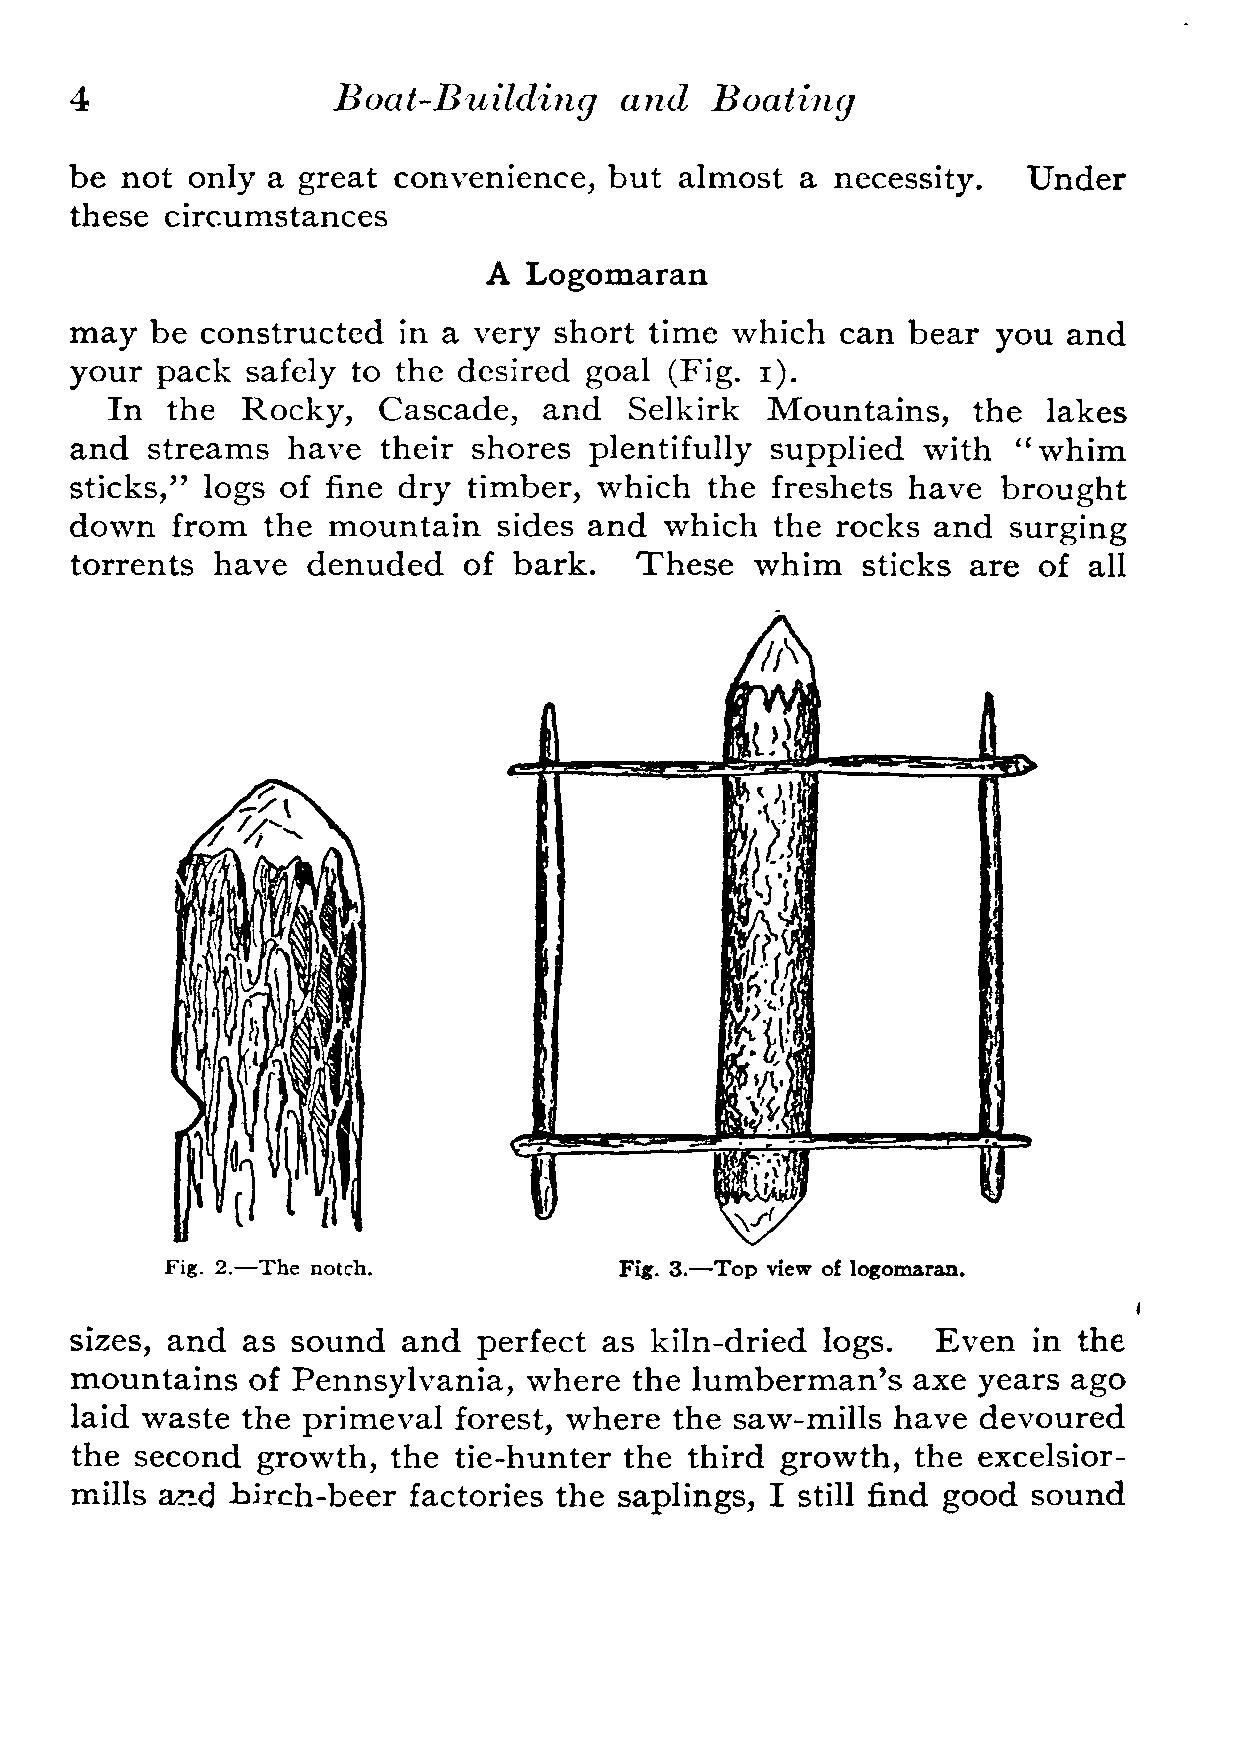chapter: (478, 256, 713, 297)
content: (64, 318, 1134, 1519), (64, 157, 1131, 234)
content_chapter: (322, 79, 858, 122)
content_pagenumber: (67, 81, 89, 117)
